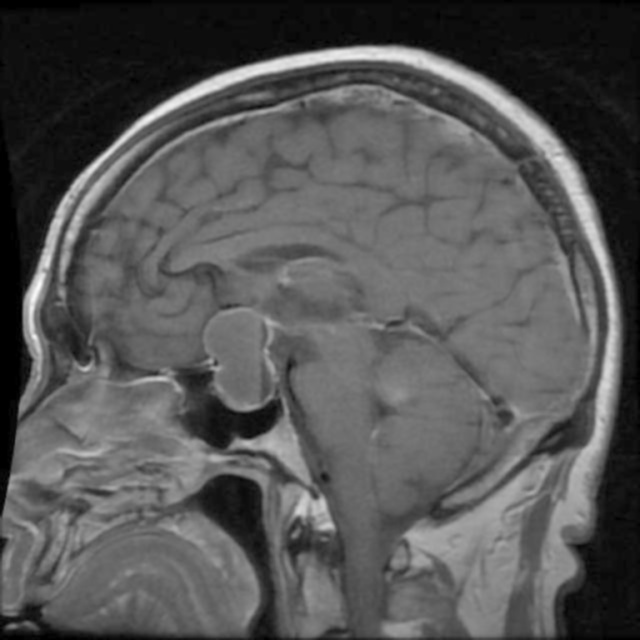no tumor: (210, 298, 281, 414)
